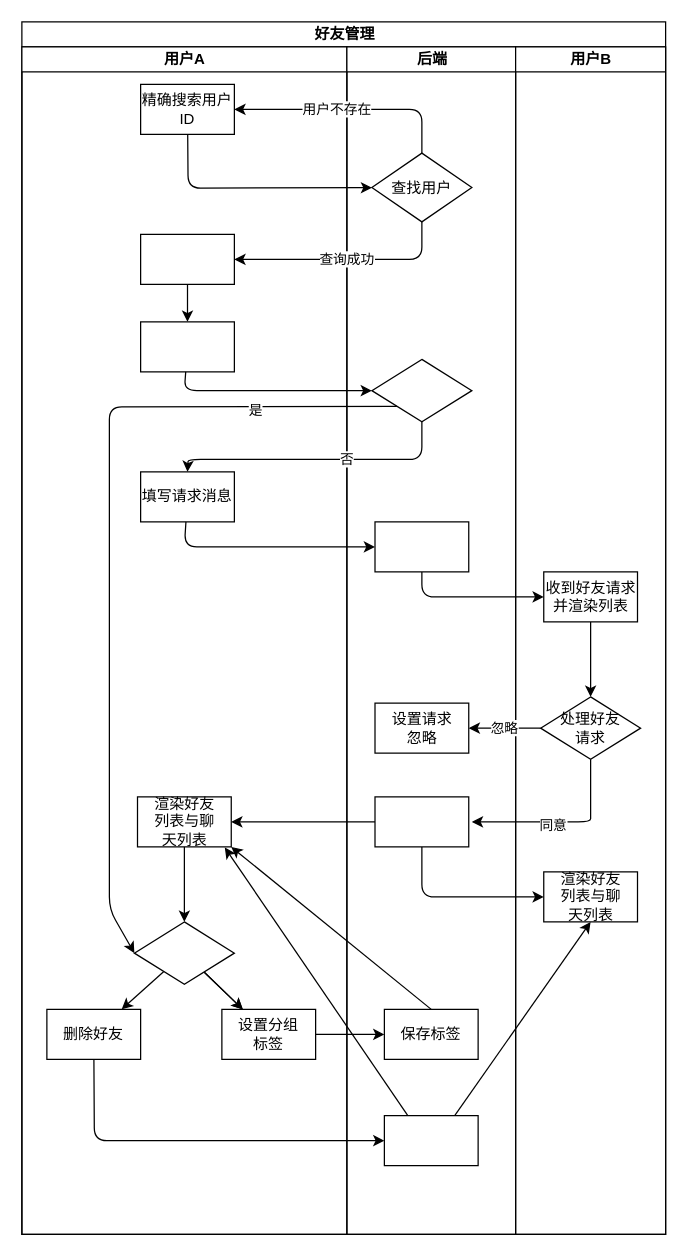
This 688x1256 diagram has some shape labels left out. Here are the shapes that lost their labels. From the top down, the centre of each, then its label:
At (x=186, y=258): "用户信息简介".
At (x=186, y=346): "对方个人主页".
At (x=421, y=390): "判断是否已为好友".
At (x=421, y=546): "保存并处理历史请求".
At (x=421, y=821): "建立好友关系与聊天会话".
At (x=183, y=952): "管理好友".
At (x=430, y=1140): "处理好友关系".
